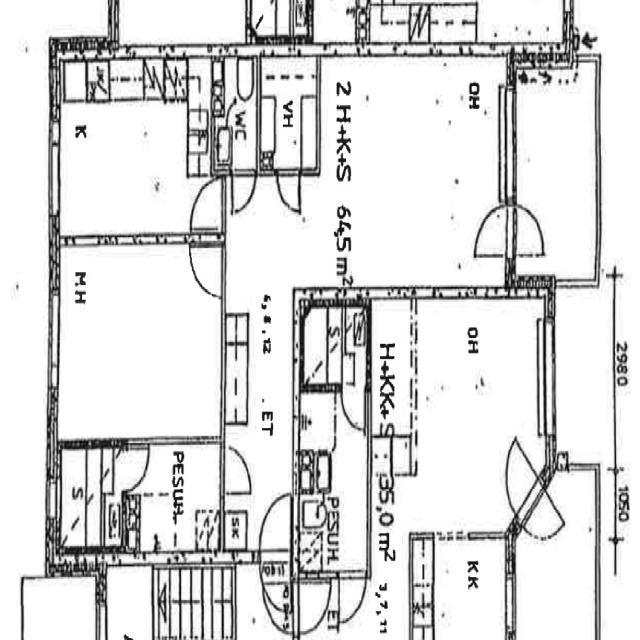door: (110, 439, 226, 558), (297, 575, 336, 638), (510, 199, 548, 261), (258, 492, 293, 558), (473, 200, 510, 261), (188, 241, 224, 299), (188, 176, 224, 233), (260, 572, 294, 632), (221, 442, 254, 502), (114, 442, 150, 496), (336, 571, 368, 628), (338, 382, 369, 434), (532, 492, 564, 542), (275, 166, 302, 216), (230, 169, 257, 218)
window: (498, 86, 520, 205), (43, 282, 64, 402), (543, 320, 560, 440), (46, 121, 64, 220), (504, 566, 519, 636)
zone: (305, 62, 510, 288), (394, 298, 547, 540), (53, 247, 224, 443), (54, 93, 203, 240), (512, 50, 598, 286), (518, 479, 598, 640), (118, 440, 224, 558), (433, 535, 509, 640), (258, 57, 319, 175), (118, 0, 252, 53), (56, 444, 109, 554), (213, 56, 257, 176), (300, 303, 344, 389), (247, 0, 309, 45), (311, 0, 359, 51), (366, 1, 412, 53), (429, 6, 477, 51), (410, 534, 434, 593), (248, 0, 277, 43)
